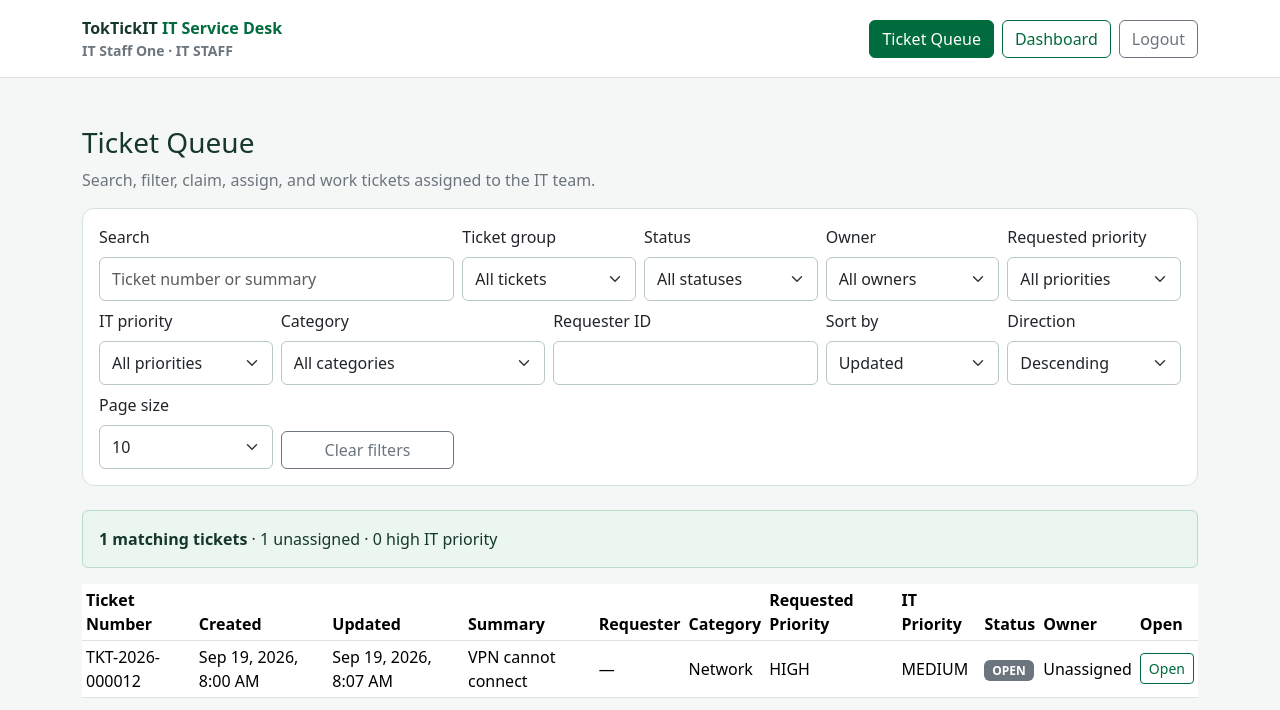
it: Issue #39 IT Staff Ticket Detail UI › shows safe failure feedback when a staff update cannot be saved
Step 1. Click the button "Ticket Queue" → (932, 38), box [869,20,994,58]
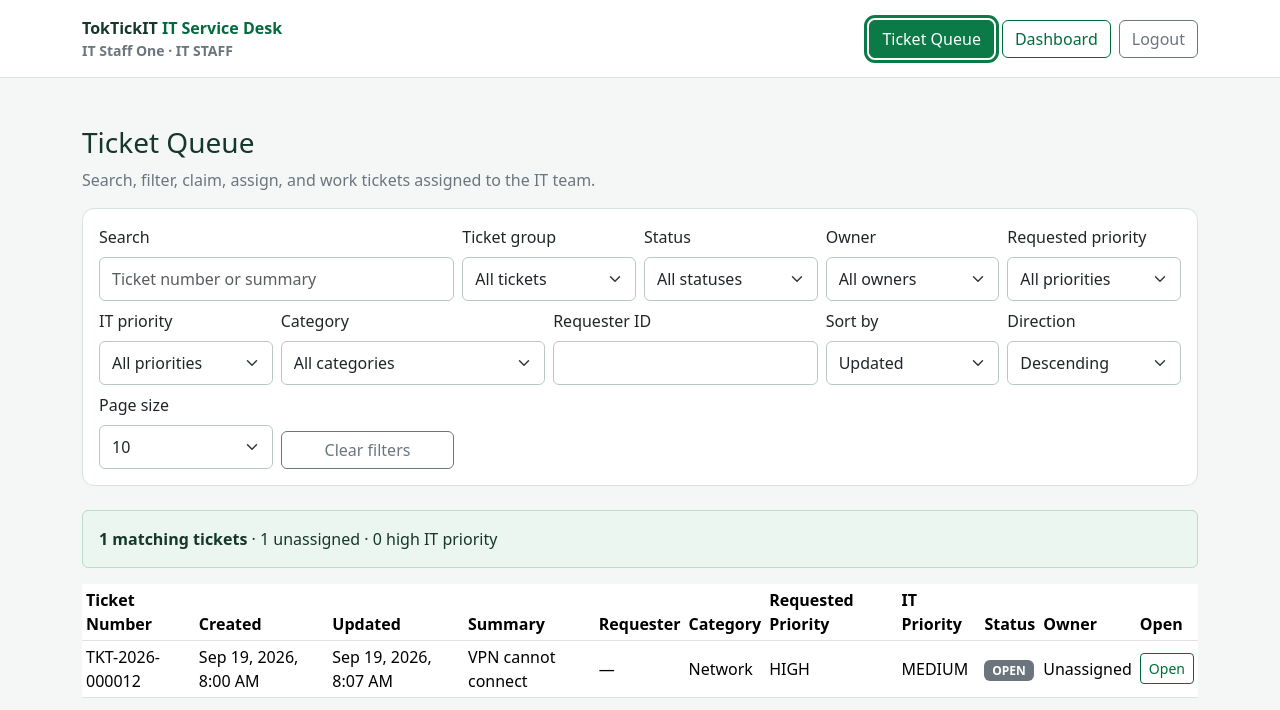
Step 2. Click the button with aria-label "Open TKT-2026-000012" → (1167, 669), box [1140,653,1194,684]
(page scrolled)
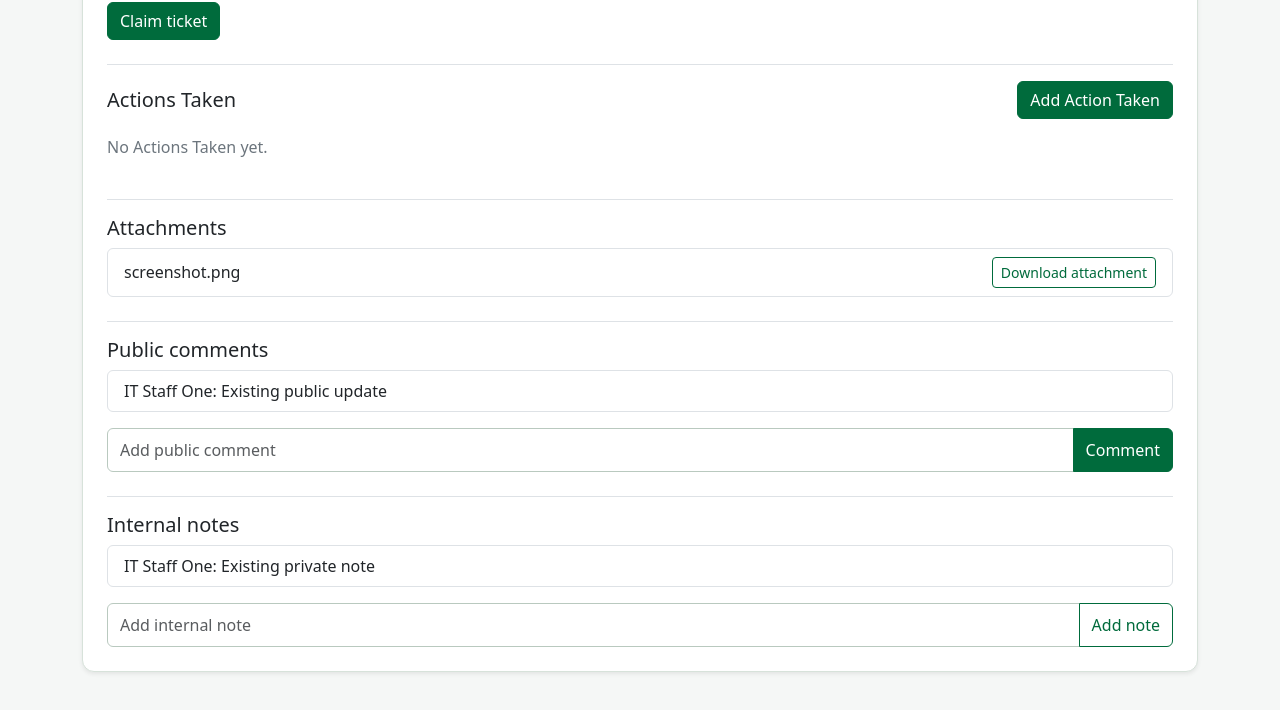
Step 3. Type "Will not save" into the field named "Staff public comment" → (590, 450), box [107,428,1074,472]
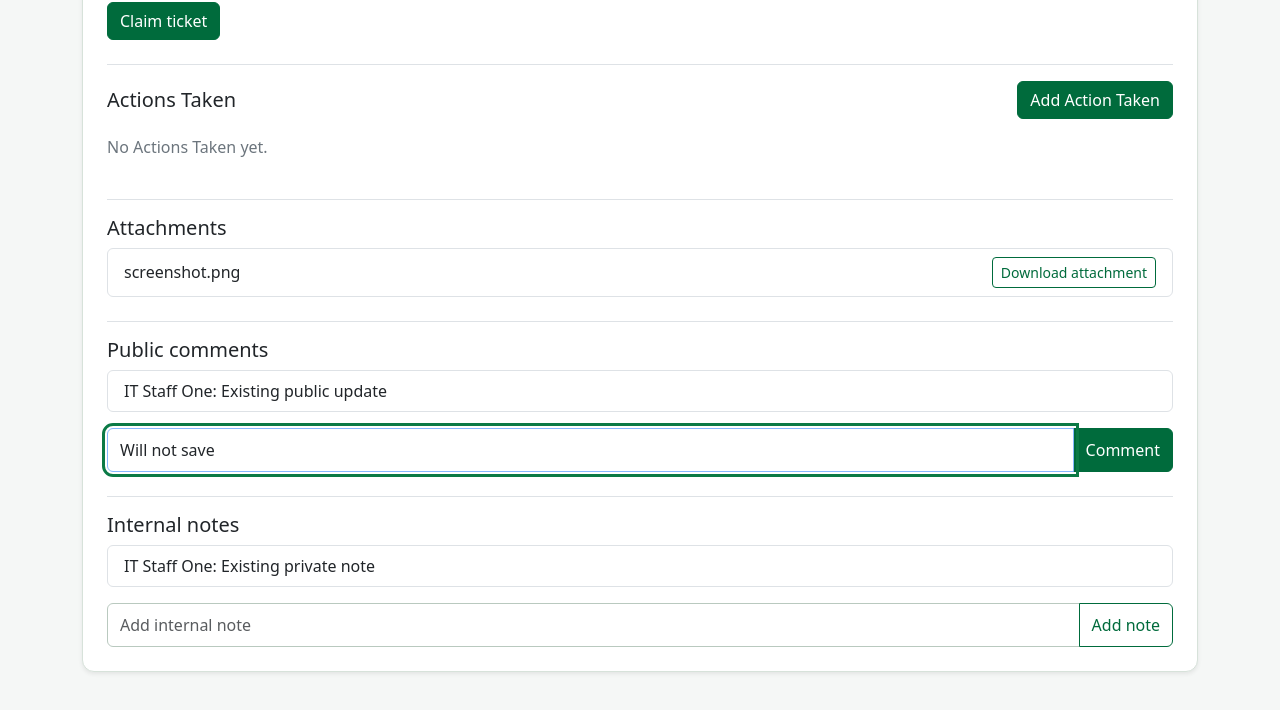
Step 4. Click the button "Comment" → (1123, 450), box [1073,428,1173,472]
(page scrolled)
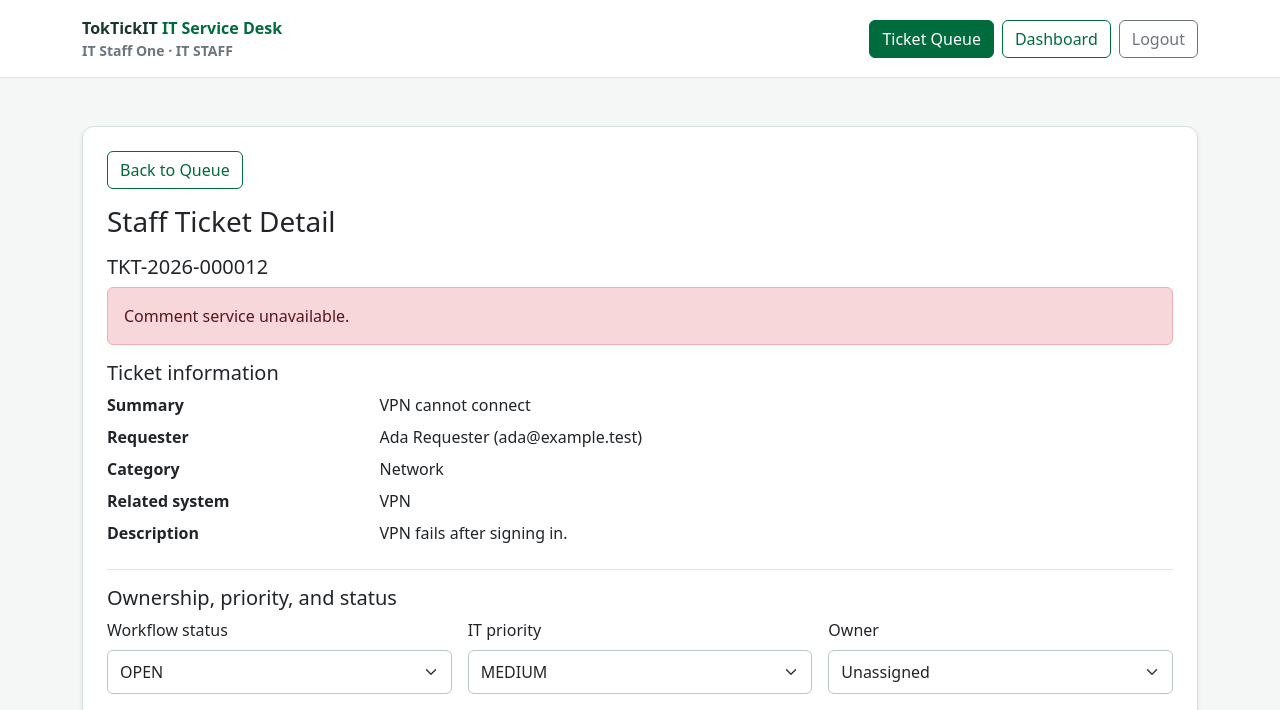
Expected: the message reads "Comment service unavailable.", [124,305,349,327]
